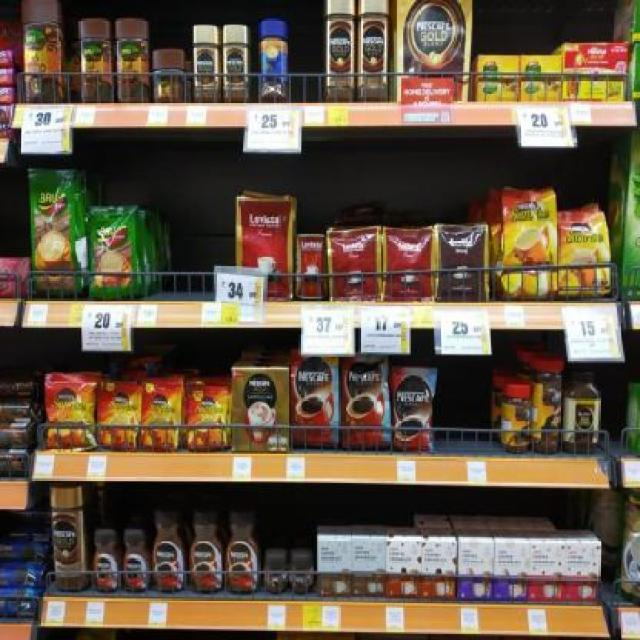Coffee: (341, 356, 390, 447), (292, 358, 339, 448), (48, 377, 94, 449), (393, 370, 433, 452), (52, 487, 83, 591), (152, 509, 185, 593), (361, 0, 388, 102), (189, 512, 223, 591), (225, 511, 258, 592), (328, 0, 354, 100), (194, 25, 218, 103), (222, 25, 246, 101), (91, 531, 120, 592), (122, 530, 149, 593), (291, 554, 315, 592), (265, 554, 287, 591)
